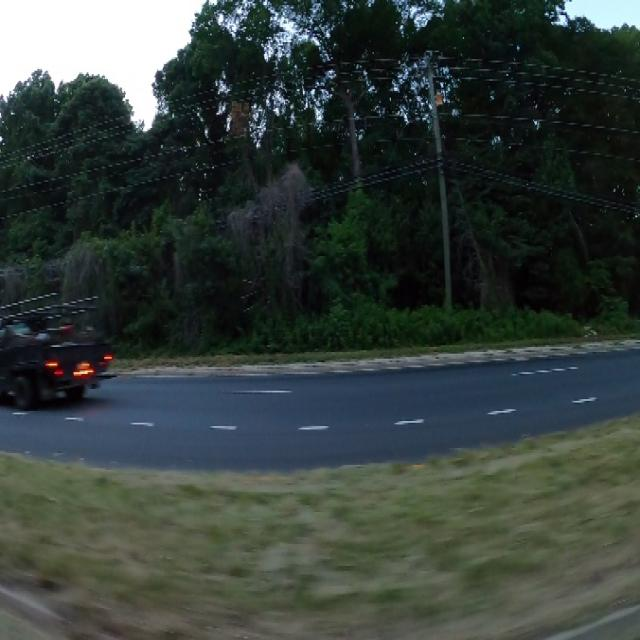Jeep: (0, 307, 112, 398)
